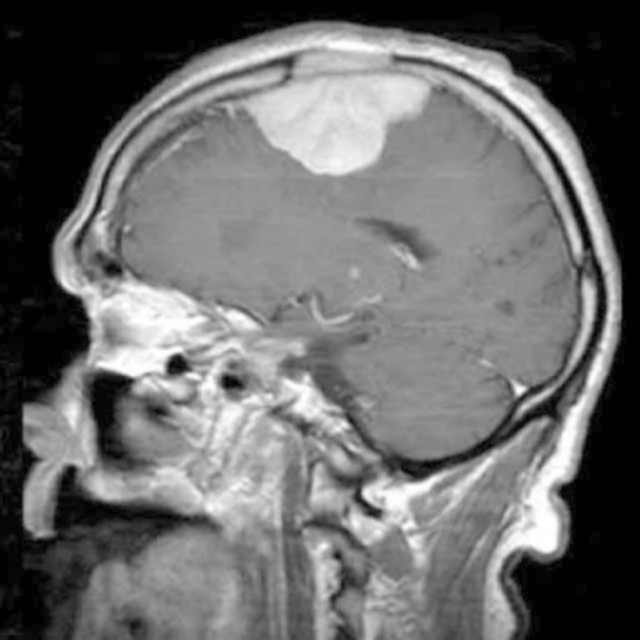meningioma tumor: (228, 47, 440, 188)
